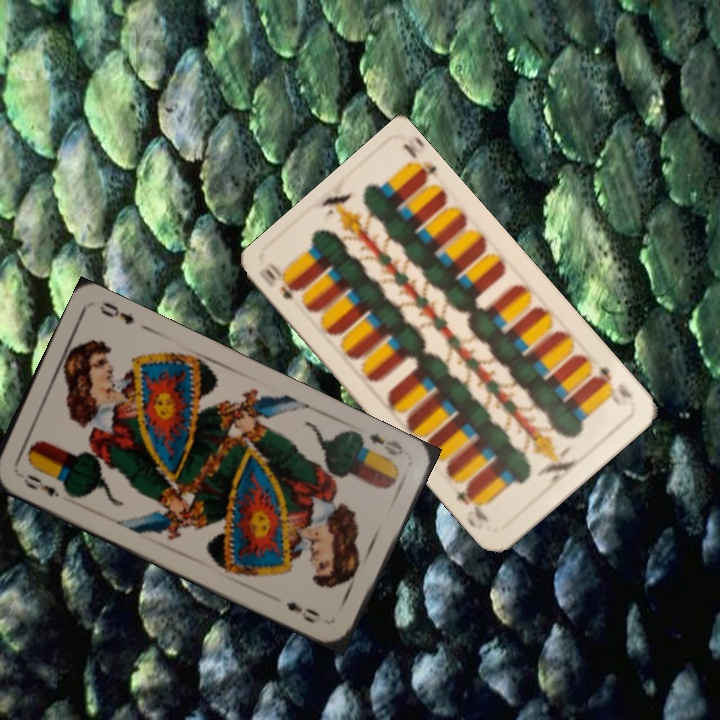E10: (589, 362, 637, 409), (261, 259, 300, 302)
EO: (19, 470, 62, 500), (365, 428, 406, 459)
